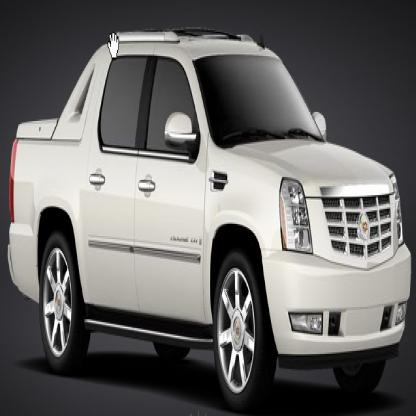Vehicle: (10, 29, 413, 414)
